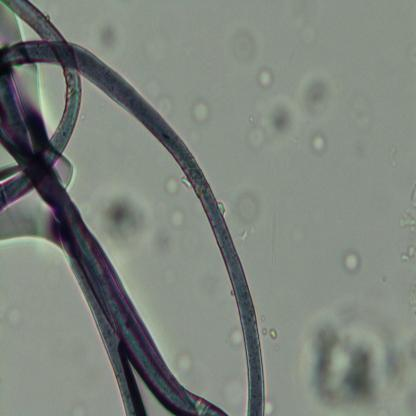Background material: (302, 304, 416, 412), (254, 70, 331, 147), (94, 185, 155, 258), (401, 181, 416, 264), (94, 19, 124, 53), (233, 192, 262, 226), (341, 242, 366, 278), (190, 97, 212, 124), (308, 133, 328, 157), (168, 208, 187, 229), (229, 326, 245, 348), (167, 179, 183, 197), (257, 70, 273, 88)
Microfibre: (0, 0, 267, 415)
